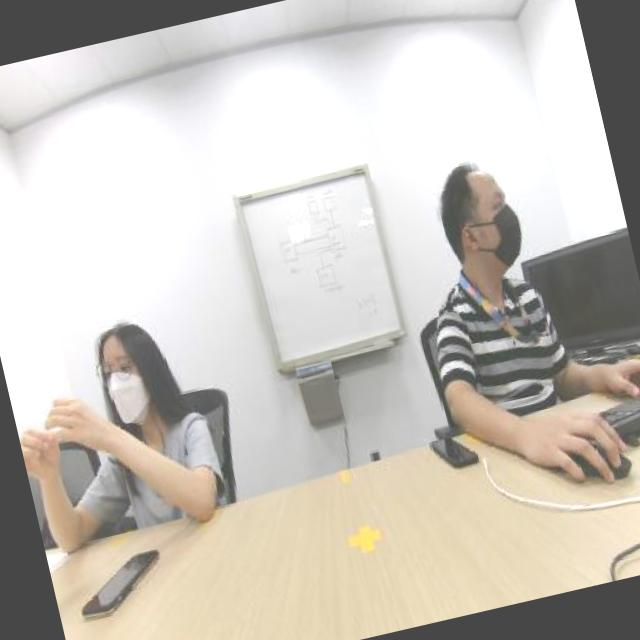Person: (0, 258, 237, 545), (384, 137, 598, 436)
